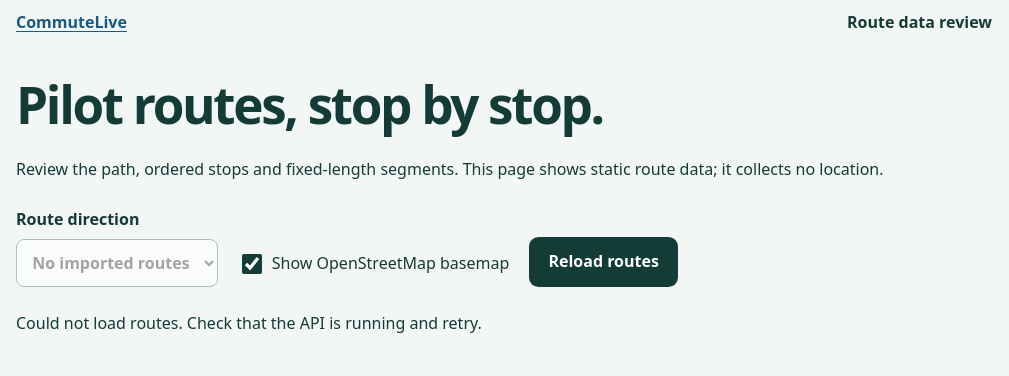
Test: route data review › handles API failure and lets the user retry
The image size is (1009, 376).
Check: the message shows "Could not load routes", box top-left (16, 312), bottom-right (482, 334)
Click the button "Reload routes". click: click(604, 262)
box: top-left (529, 237), bottom-right (678, 287)
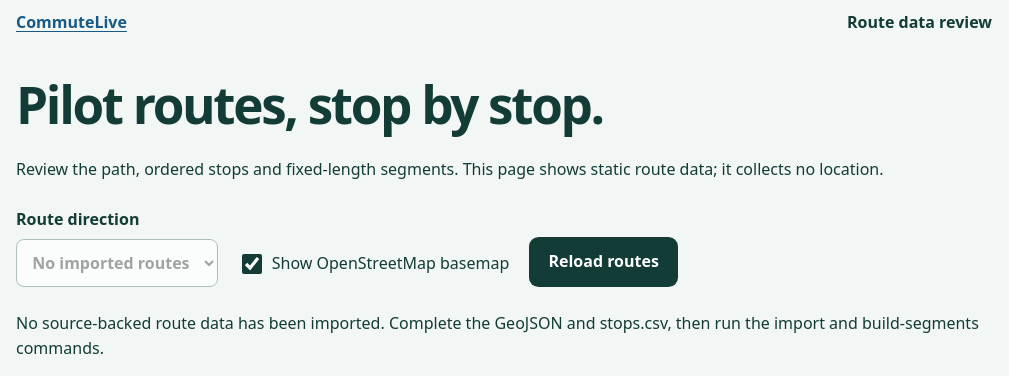
Check: the text "No source-backed route data" is shown, box top-left (16, 312), bottom-right (979, 360)
